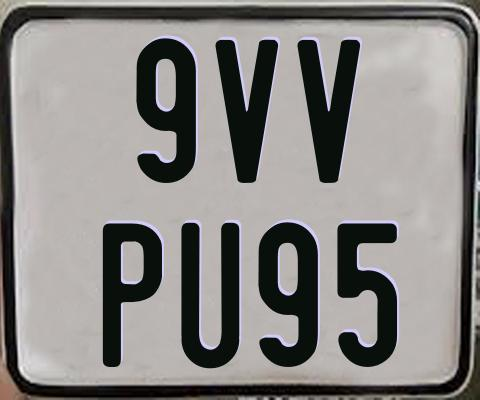5: (337, 223, 400, 369)
9: (258, 220, 324, 370), (135, 37, 200, 186)
P: (100, 222, 161, 369)
U: (180, 220, 242, 368)
V: (215, 38, 284, 184), (297, 39, 364, 187)
